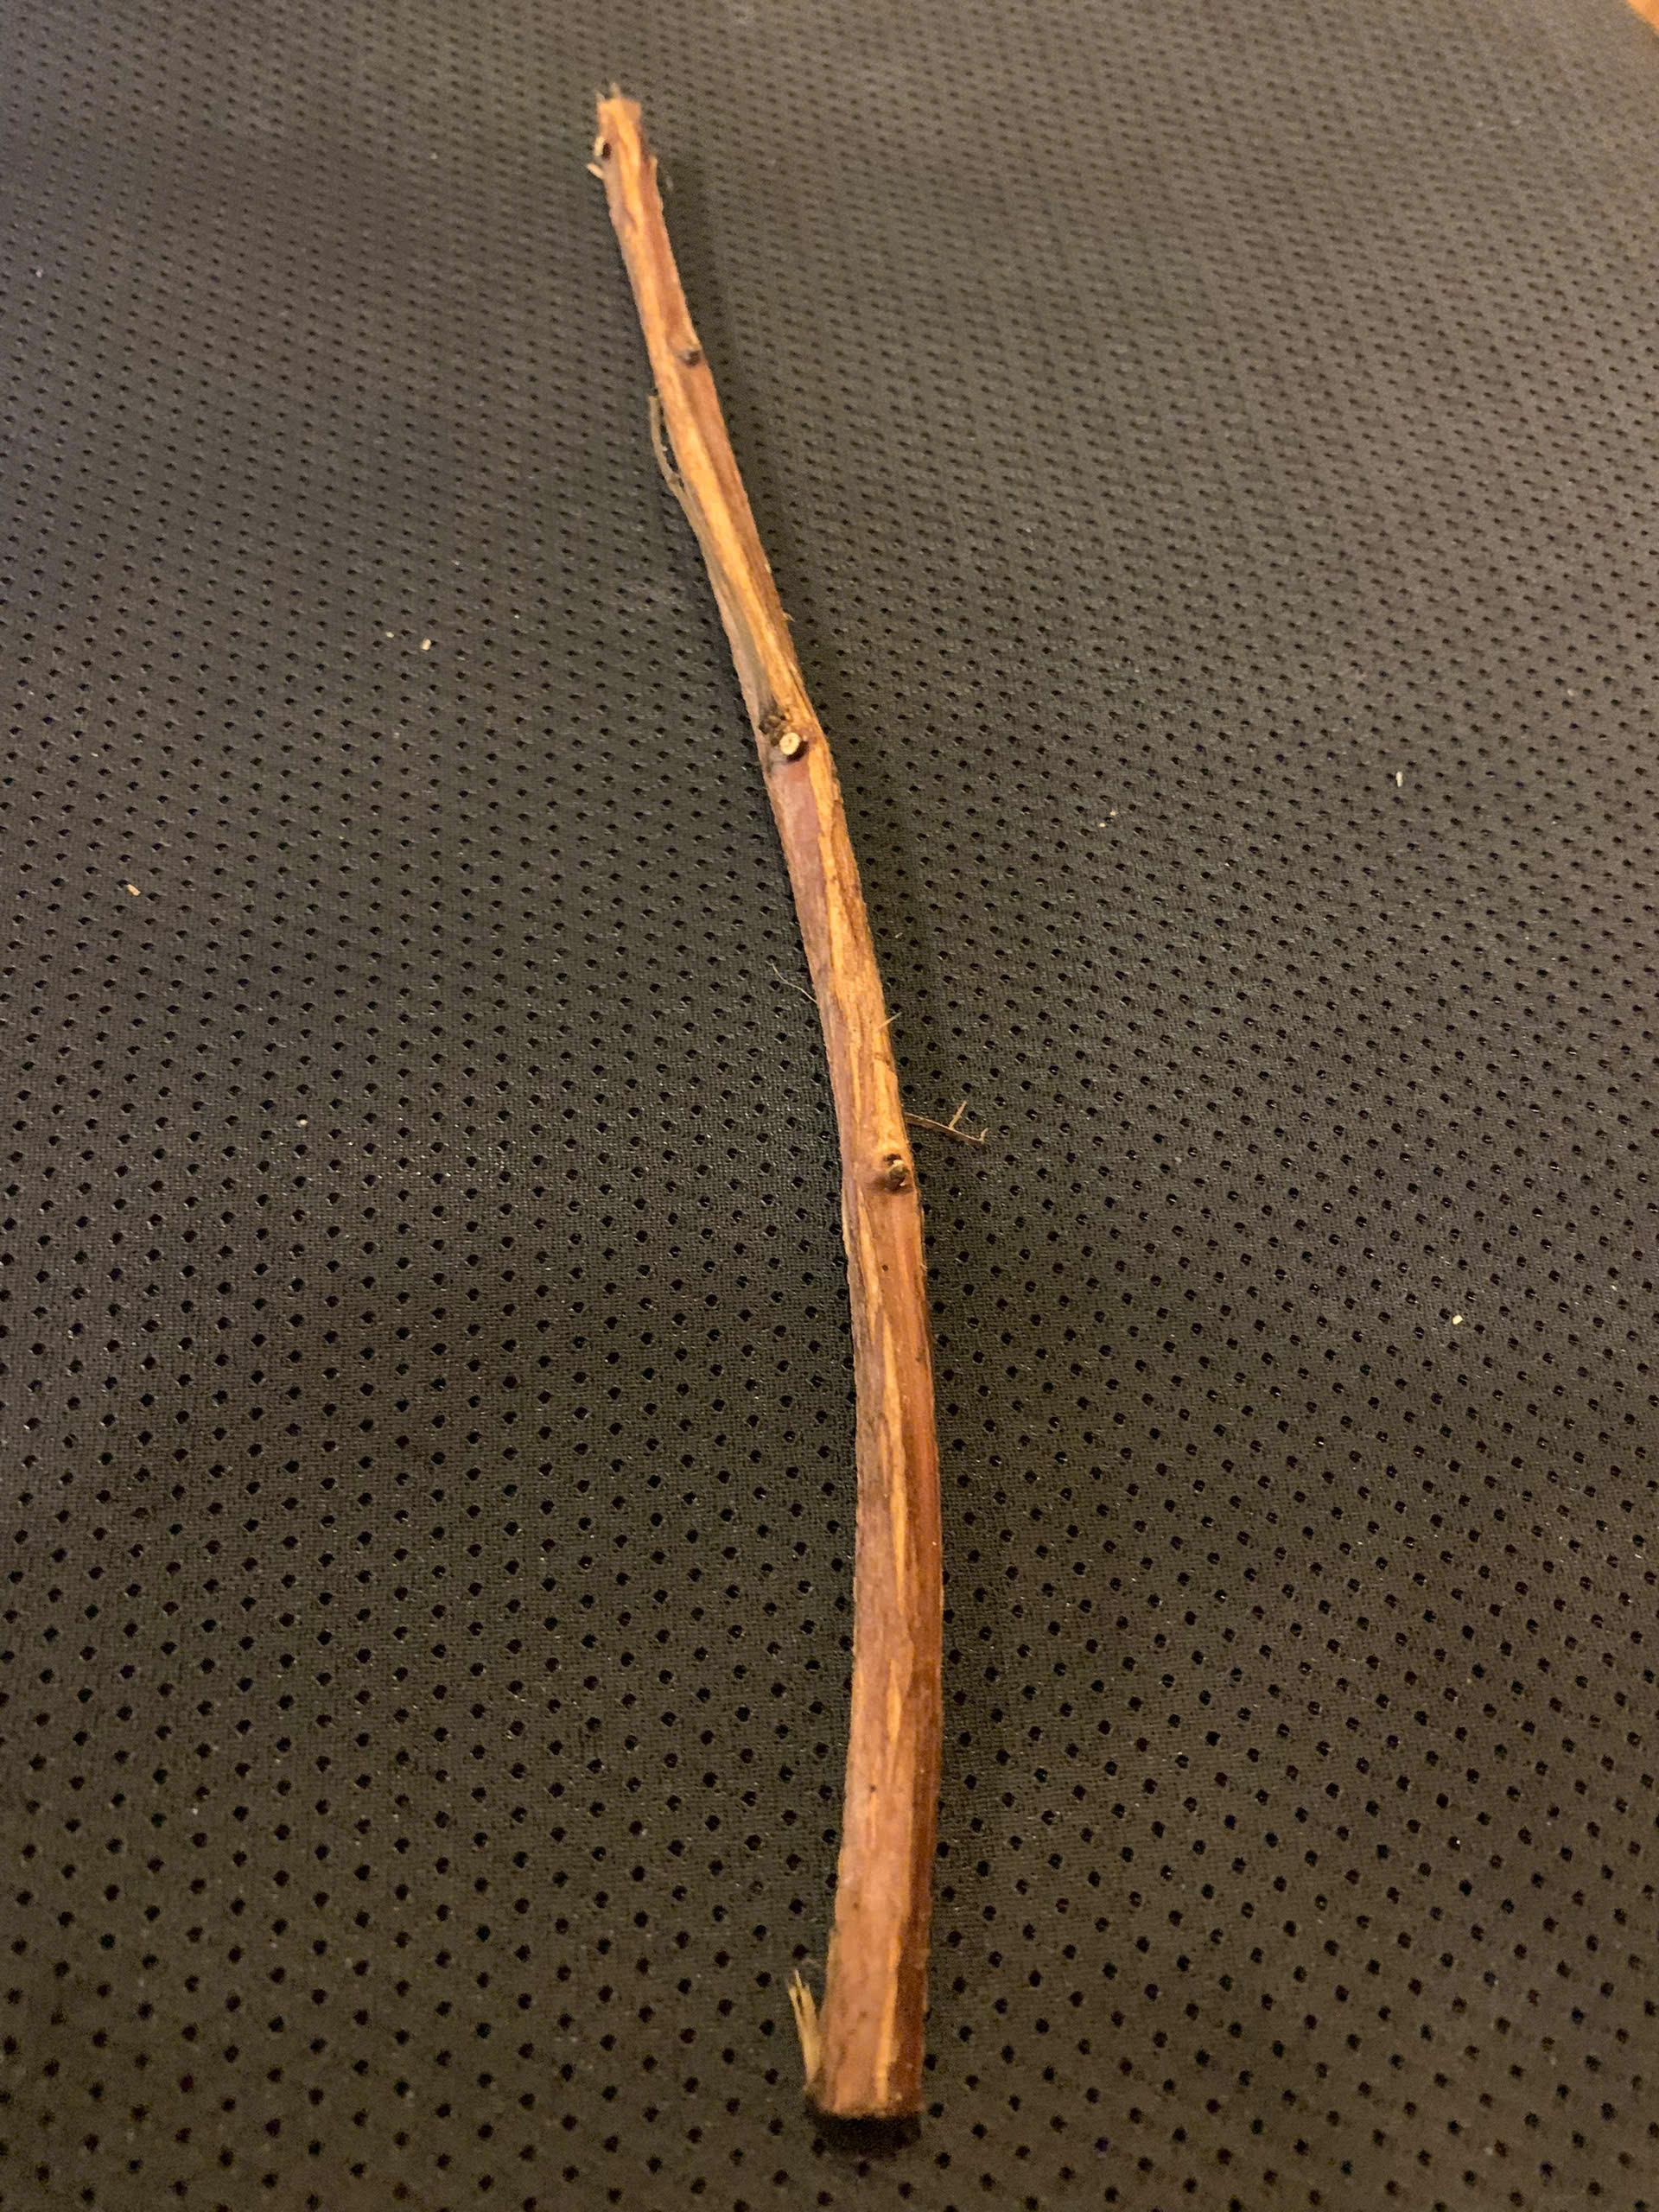Huu co: (584, 96, 960, 2141)
